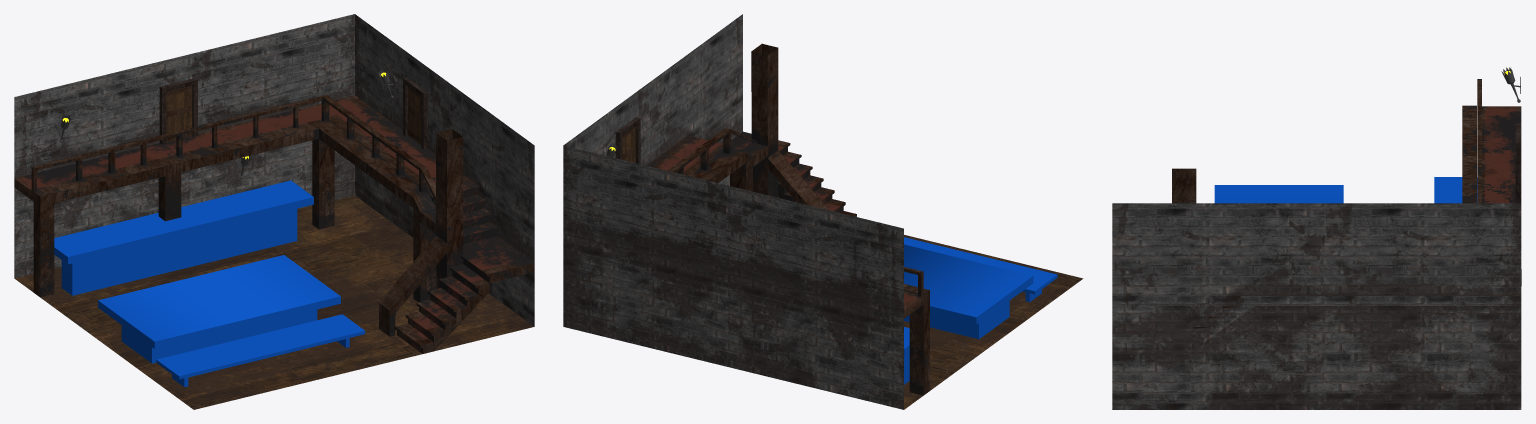
File: Bar 4.fbx
3 renders of one model, left to right at view 1: azimuth 30°, elevation 25°; view 2: azimuth 150°, elevation 25°; view 3: azimuth 270°, elevation 25°, orthographic. The views are drawn at different scales.
Parts seen in each view (by area): view 1: floor_walls, stairs, table, door, door003; view 2: floor_walls, stairs, table, door003; view 3: floor_walls, stairs, table, door.
Boxes of the visible parts, bbox=[...] form: floor_walls: bbox=[14, 14, 534, 409]; stairs: bbox=[14, 95, 534, 353]; table: bbox=[54, 180, 365, 387]; door: bbox=[159, 78, 197, 144]; door003: bbox=[403, 77, 427, 149]; floor_walls: bbox=[563, 14, 1083, 409]; stairs: bbox=[647, 43, 929, 395]; table: bbox=[904, 237, 1057, 384]; door003: bbox=[615, 117, 640, 164]; floor_walls: bbox=[1112, 203, 1521, 409]; stairs: bbox=[1172, 79, 1521, 328]; table: bbox=[1214, 177, 1477, 203]; door: bbox=[1515, 123, 1520, 203].
Size of the model in its own units: 1011 by 517 by 923.
